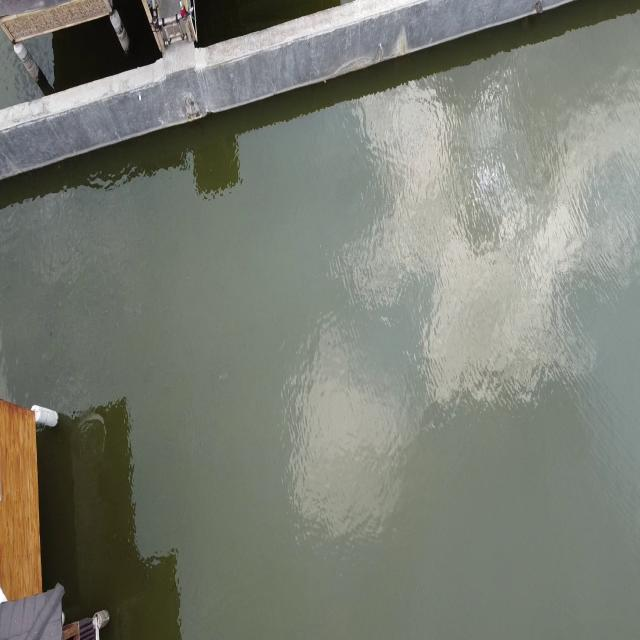Ponds: (1, 1, 640, 636)
